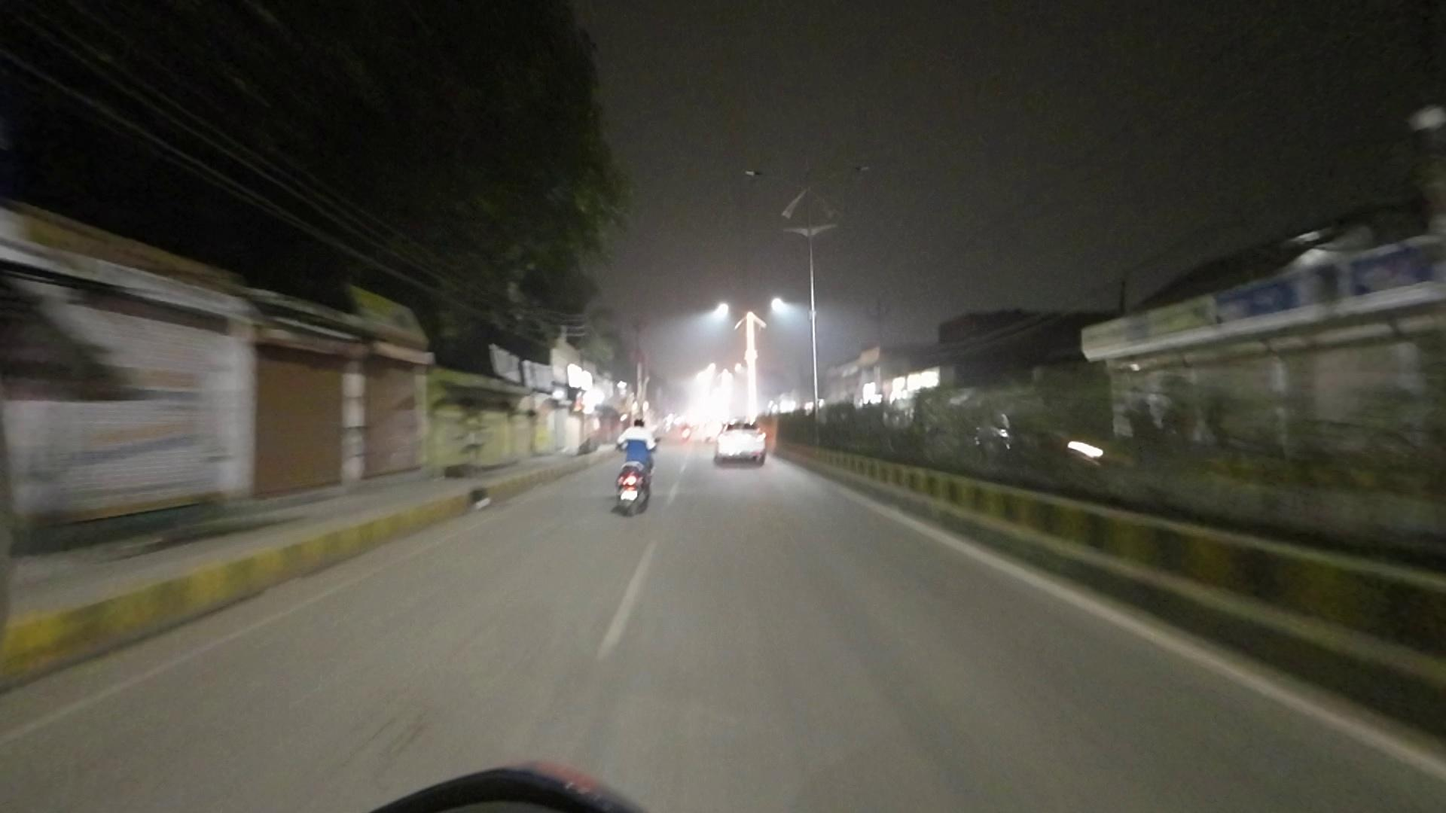streetlight: (816, 162, 871, 180), (743, 165, 794, 182)
